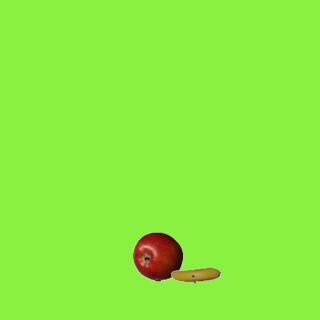Apple Braeburn: (132, 231, 182, 281)
Banana: (170, 250, 220, 300)
